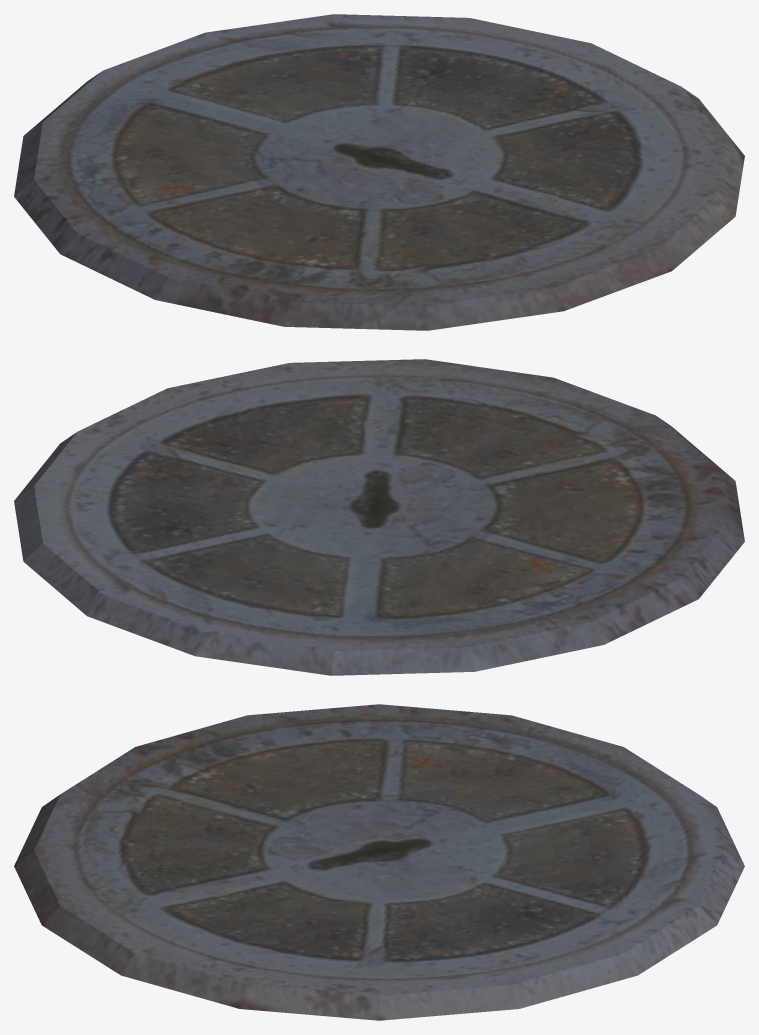
File: utilityholeA_circle_sml.fbx
The picture shows the model from 3 angles, top to bottom: view 1: azimuth 30°, elevation 25°; view 2: azimuth 150°, elevation 25°; view 3: azimuth 270°, elevation 25°; orthographic projection.
Visible parts, largest first — view 1: utilityholeA_circle_sml; view 2: utilityholeA_circle_sml; view 3: utilityholeA_circle_sml.
Boxes of the visible parts, box(x1,y1,x2,y2) form: utilityholeA_circle_sml: box(14, 14, 744, 330); utilityholeA_circle_sml: box(14, 359, 744, 675); utilityholeA_circle_sml: box(14, 704, 744, 1020).
Size of the model in its own units: 20 by 0.4862 by 20.
1 material, 1 textured.
